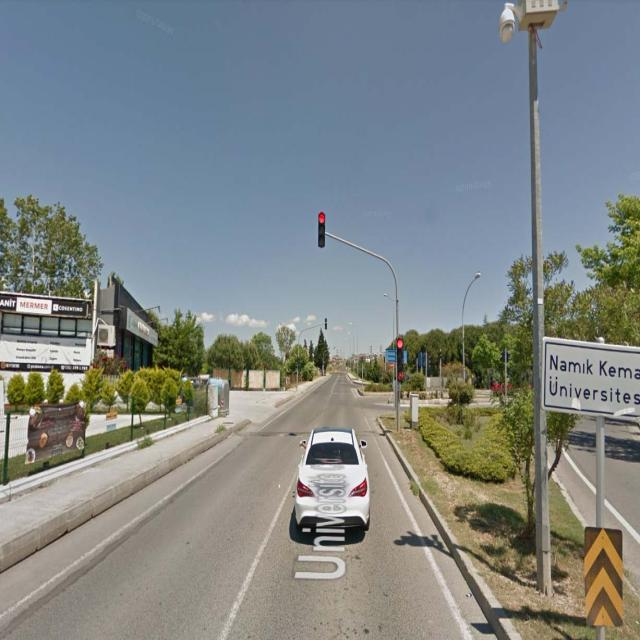kirmizi: (318, 213, 326, 247), (397, 338, 404, 371)
